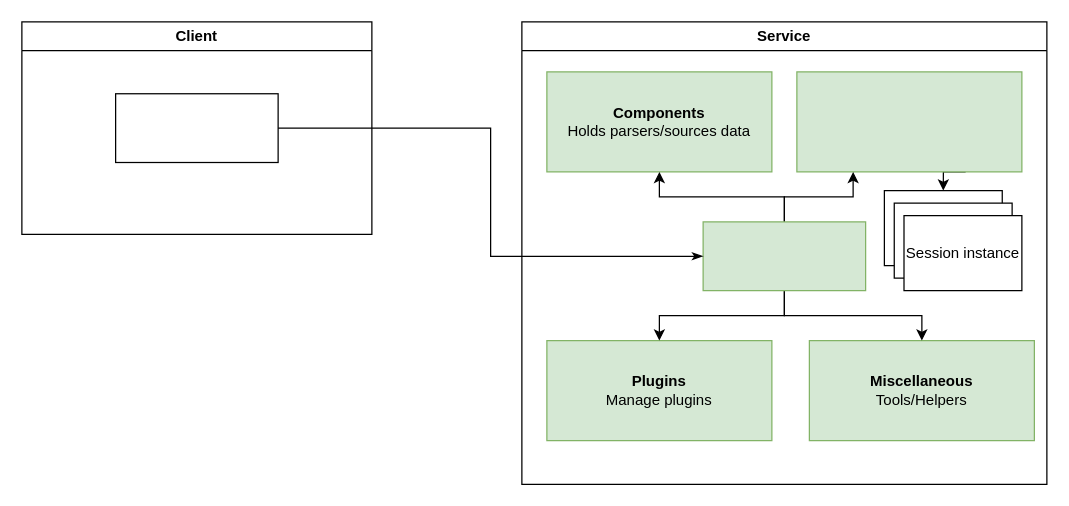
This 1069x506 diagram has some shape labels left out. The centre of each missing label's shape, as x and y in pixels:
"ICP" goes at point (784, 256).
"ICP Connector" goes at point (196, 127).
"Sessions Sessions Controller" goes at point (909, 121).
